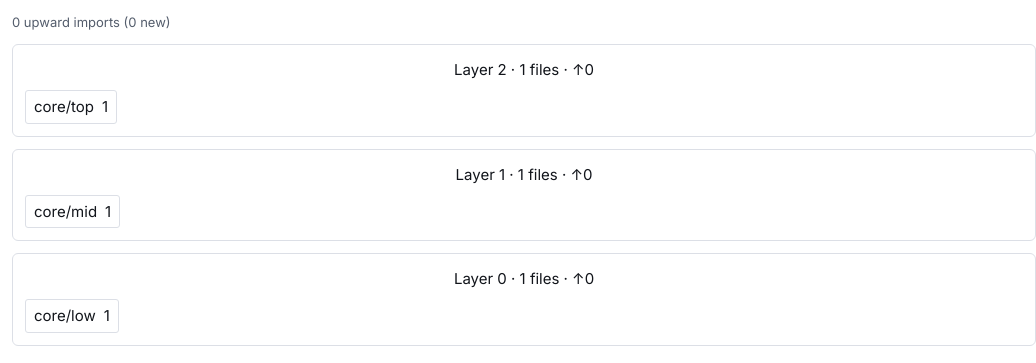
Test case: AtlasLayers › clicking a band isolates it and Escape returns
Expected: the button "Layer 2 · 1 files · ↑0" is shown, [25,57,1023,82]
Expected: the button "Layer 0 · 1 files · ↑0" is shown, [25,266,1023,291]
Click the button "Layer 1 · 1 files · ↑0" at (524, 174), box [25,162,1023,187]
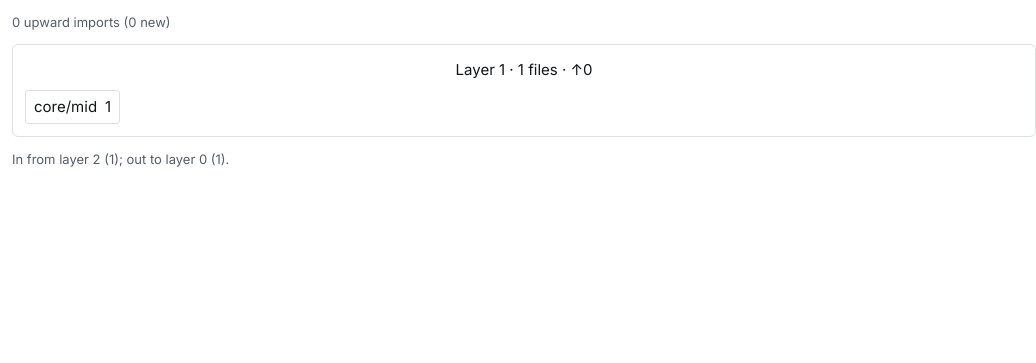
Expected: the button "Layer 1 · 1 files · ↑0" is pressed, [25,57,1023,82]
Press Escape
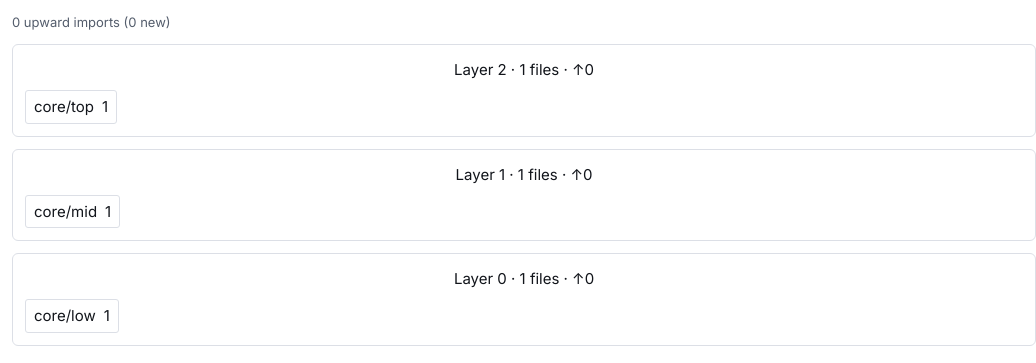
Expected: the button "Layer 2 · 1 files · ↑0" is shown, [25,57,1023,82]
Expected: the button "Layer 0 · 1 files · ↑0" is shown, [25,266,1023,291]
